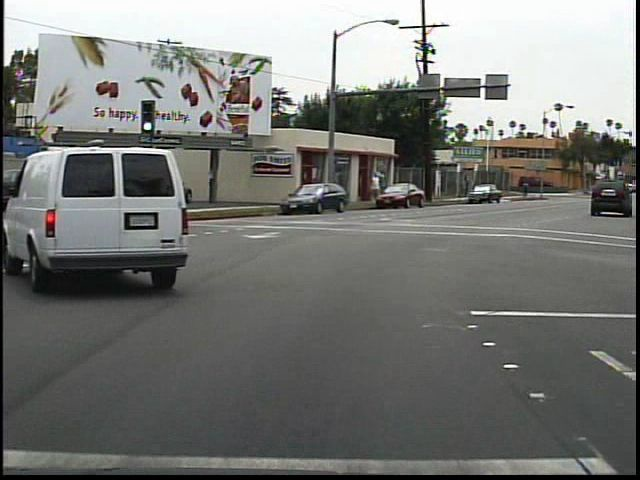person: (367, 169, 386, 209), (520, 178, 532, 200)
